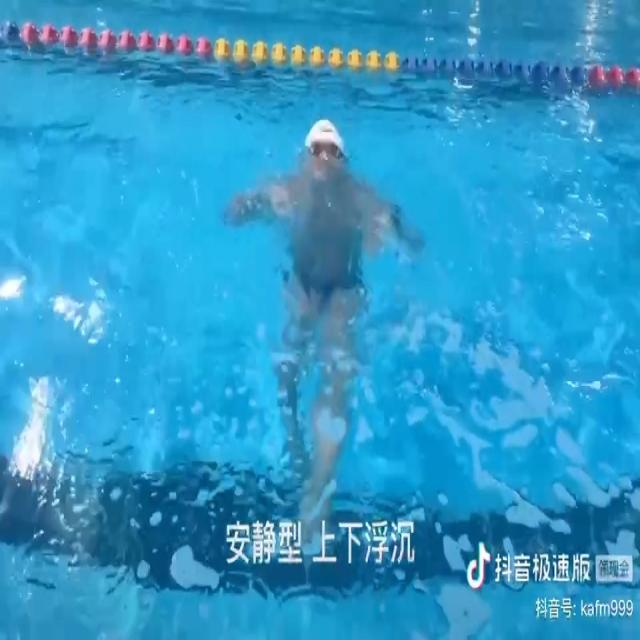Drowning: (222, 118, 421, 515)
